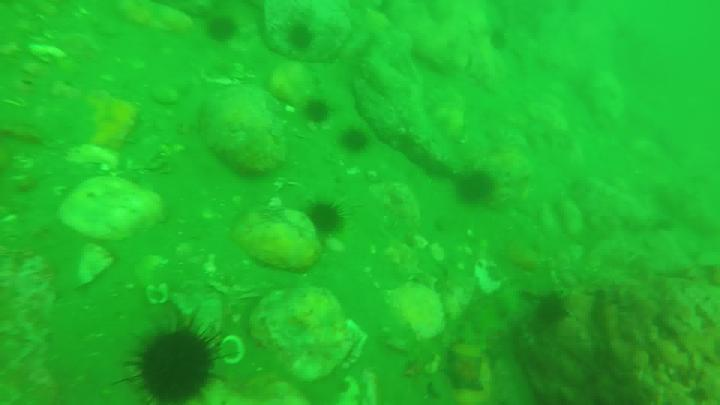echinus: (120, 315, 245, 405), (534, 291, 571, 328), (307, 203, 346, 237), (455, 175, 498, 205), (342, 129, 372, 156), (289, 25, 315, 51), (210, 19, 240, 39), (307, 103, 331, 123)
scallop: (220, 333, 251, 365), (147, 84, 180, 107), (145, 286, 177, 306)
